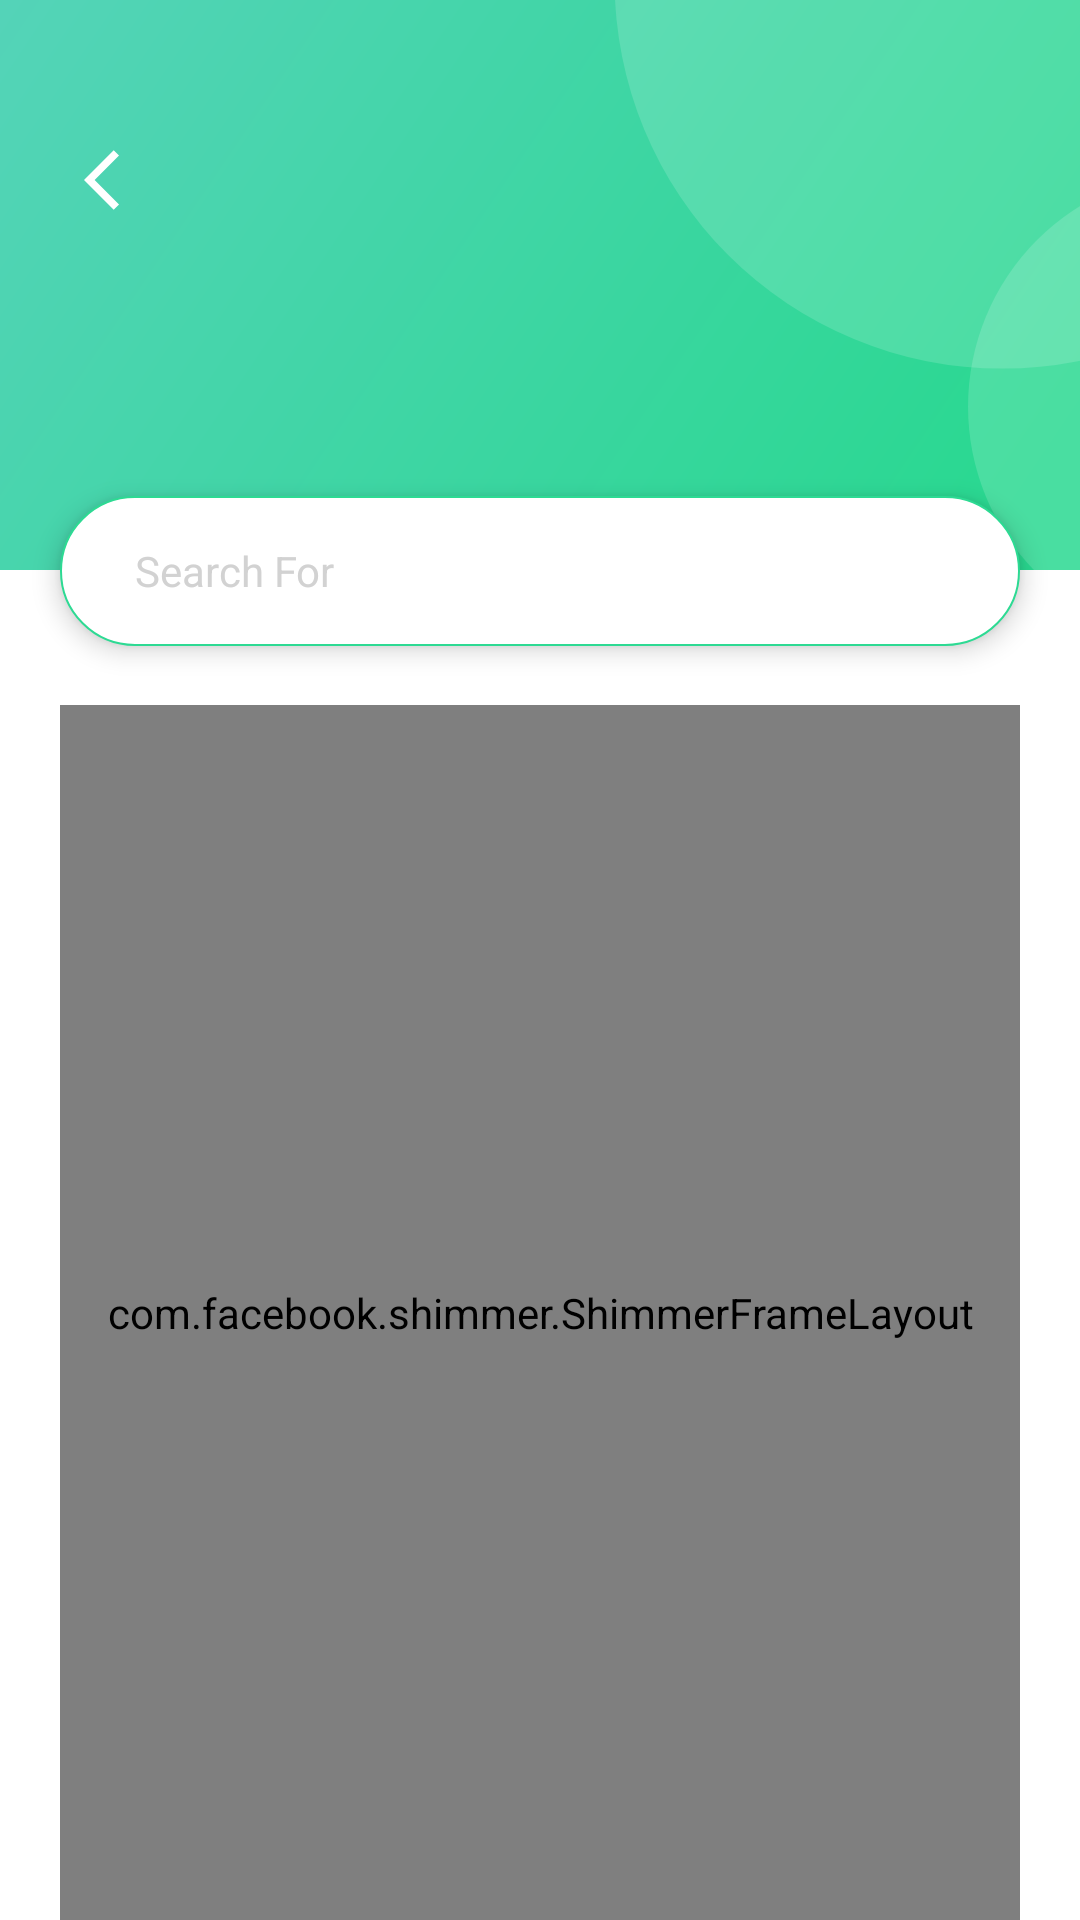

Locate icon controls on the screen. Image size 1080w x 1920h, boxes as (x1=x1, y1=y1, x2=x2, y2=y2).
back: (x1=84, y1=150, x2=119, y2=210)
